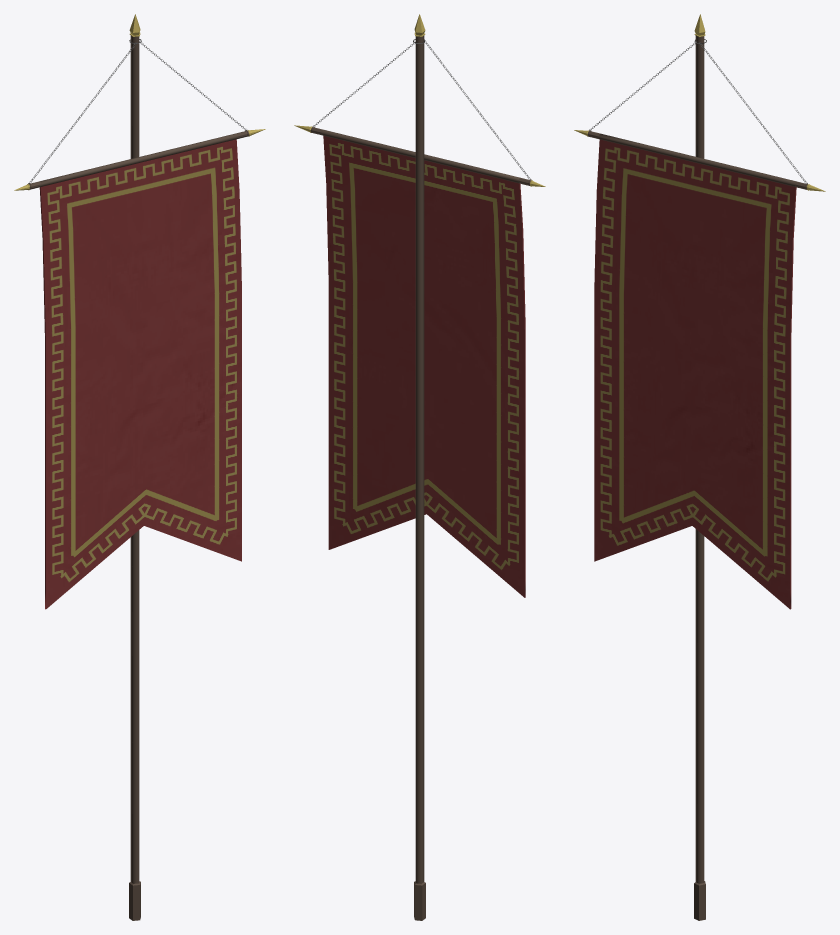
File: FlagModel2.fbx
3 views of the same model, side by side, from view 1: azimuth 30°, elevation 25°; view 2: azimuth 150°, elevation 25°; view 3: azimuth 330°, elevation 25° (orthographic).
Visible parts, largest first — view 1: Flag, Cylinder016, Banner_02; view 2: Flag, Cylinder016, Banner_02; view 3: Flag, Cylinder016, Banner_02.
Boxes of the visible parts, <box> form: Flag: <box>14,129,265,609</box>; Cylinder016: <box>129,14,140,920</box>; Banner_02: <box>29,39,247,183</box>; Flag: <box>294,125,545,597</box>; Cylinder016: <box>414,14,425,920</box>; Banner_02: <box>312,39,530,179</box>; Flag: <box>574,130,825,609</box>; Cylinder016: <box>694,14,705,920</box>; Banner_02: <box>589,39,807,183</box>.
Bounding box in the file's own units: 3.08 × 10.57 × 0.2493.
Materials: 1 (1 with a texture image).
